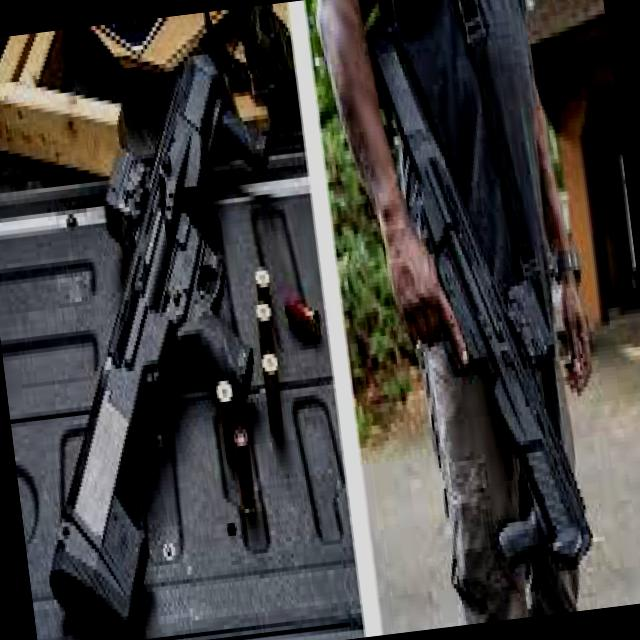long weapon: (350, 0, 601, 591), (41, 43, 277, 640)
